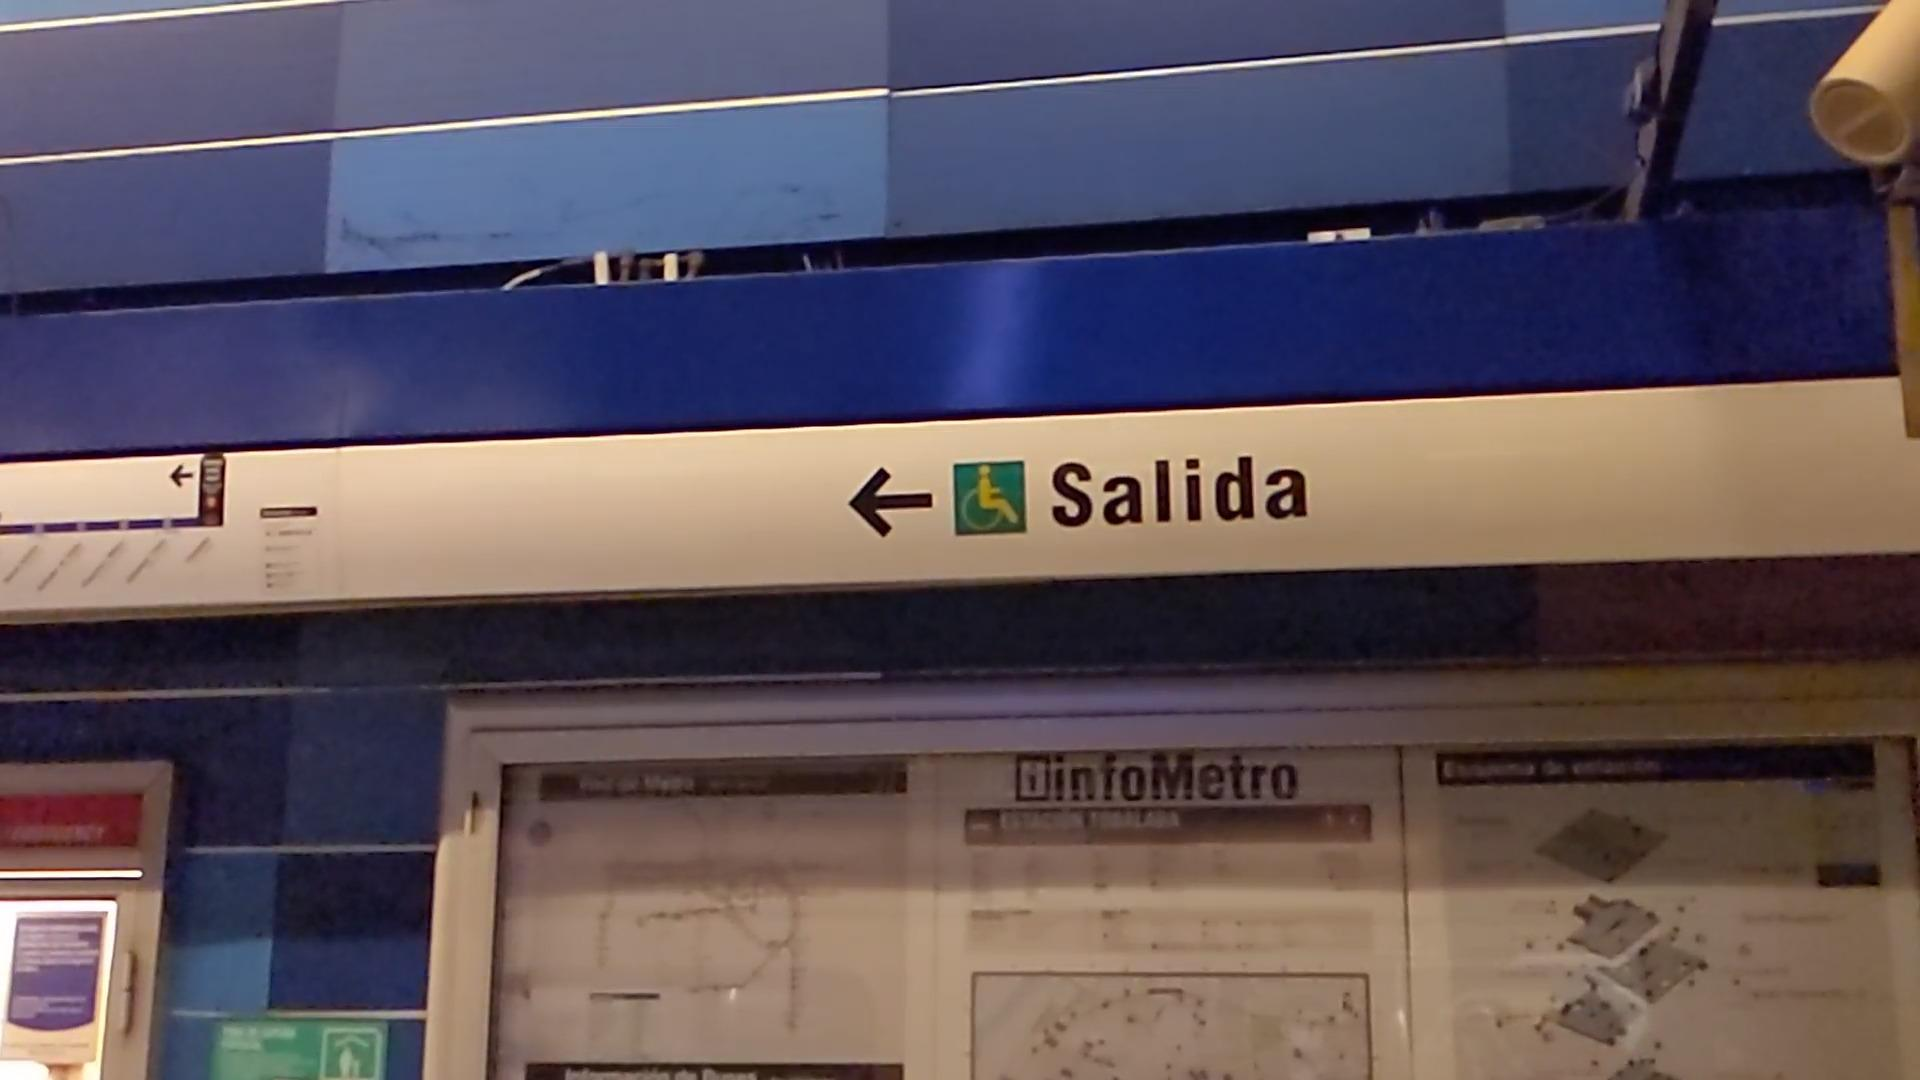handicapped symbol: (956, 463, 1022, 530)
left arrow: (844, 465, 938, 541), (167, 462, 196, 489)
